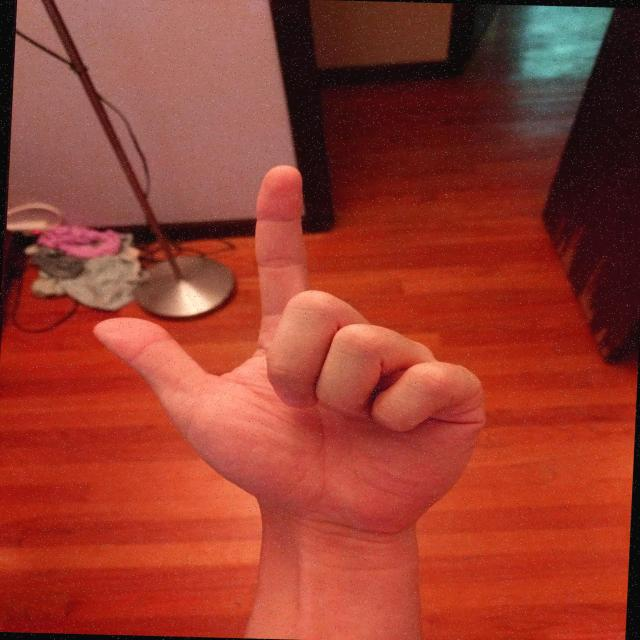L: (76, 154, 505, 539)
